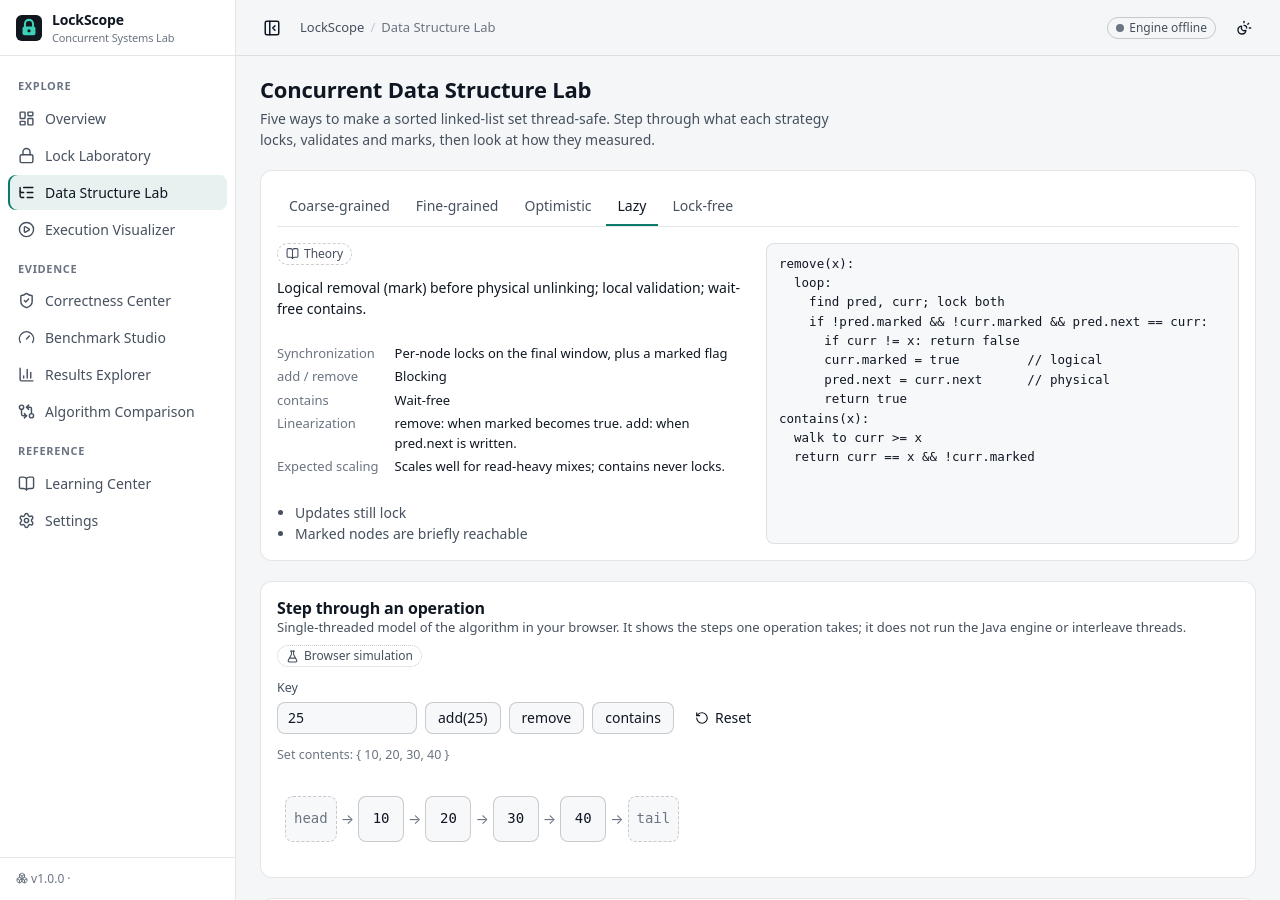
Test: simulations are labelled › steps through a list operation in the data structure lab
Click the button "remove" at (546, 718), box [508,702,584,734]
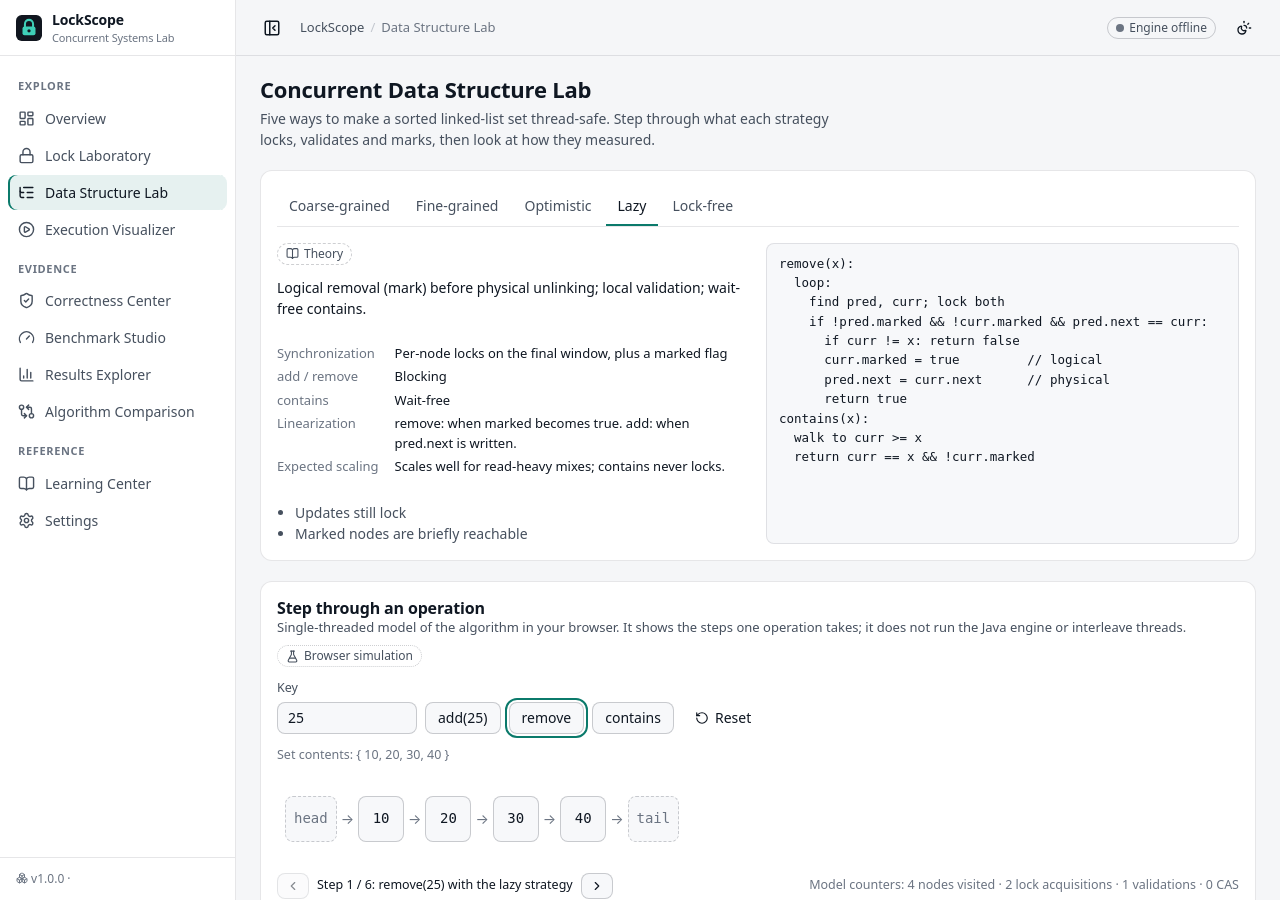
Expected: the text "Browser simulation" is shown, [277,645,422,667]
Expected: the text "Step 1 / 6: remove(25) with the lazy strategy" is shown, [317,876,573,895]
Click the button named "Next step" at (597, 886), box [581,872,613,898]
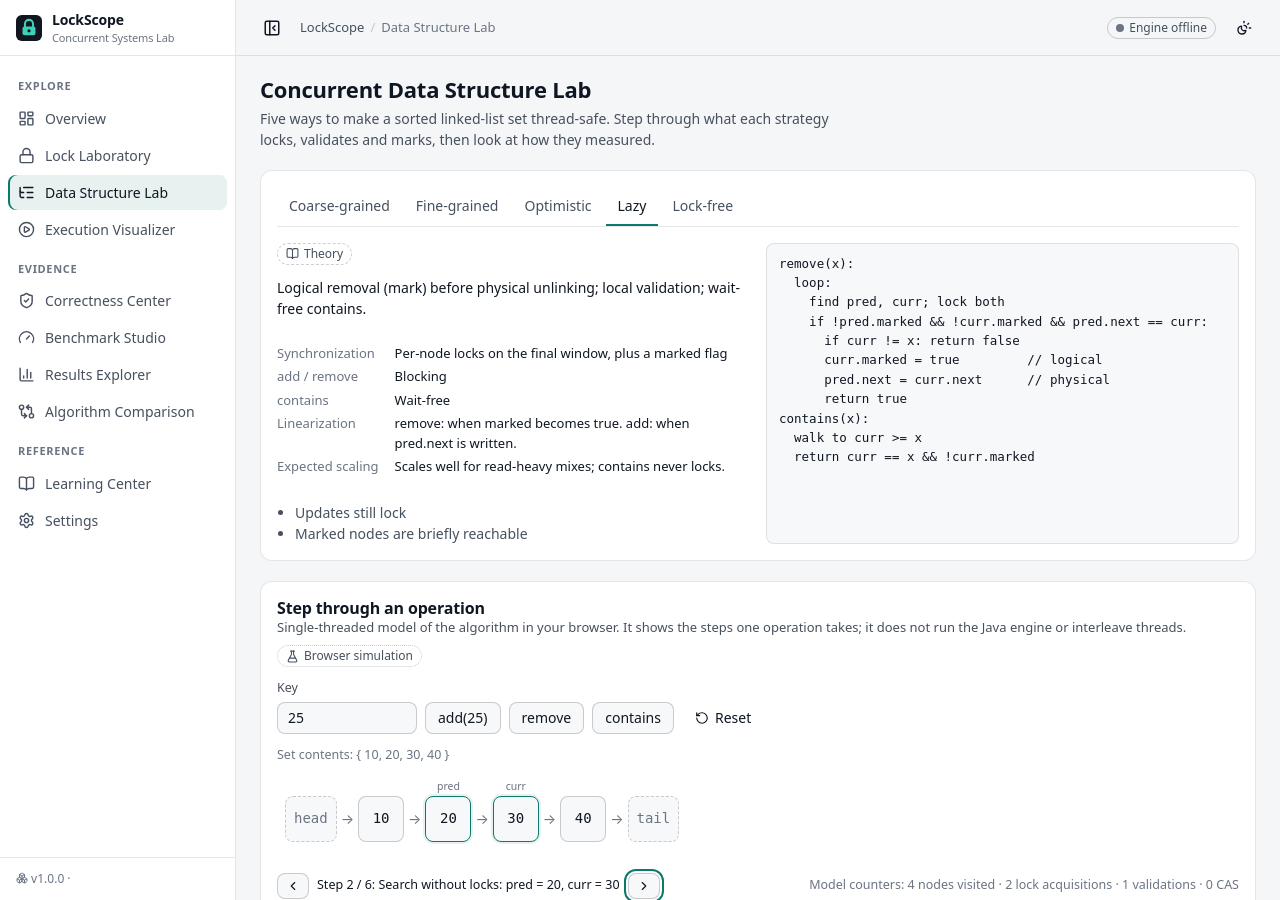
Expected: the text "Step 2 / 6: Search without locks: pred = 20, curr = 30" is shown, [317,876,620,895]
